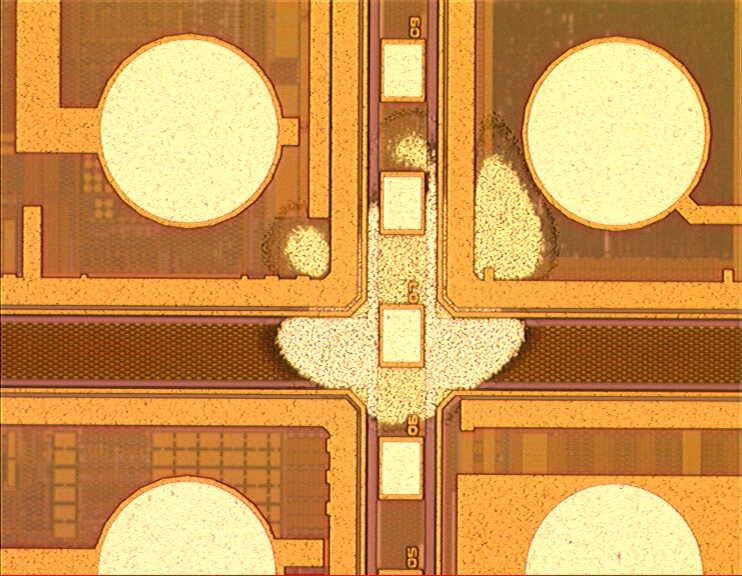BLOCK ETCH: (244, 94, 574, 443)
